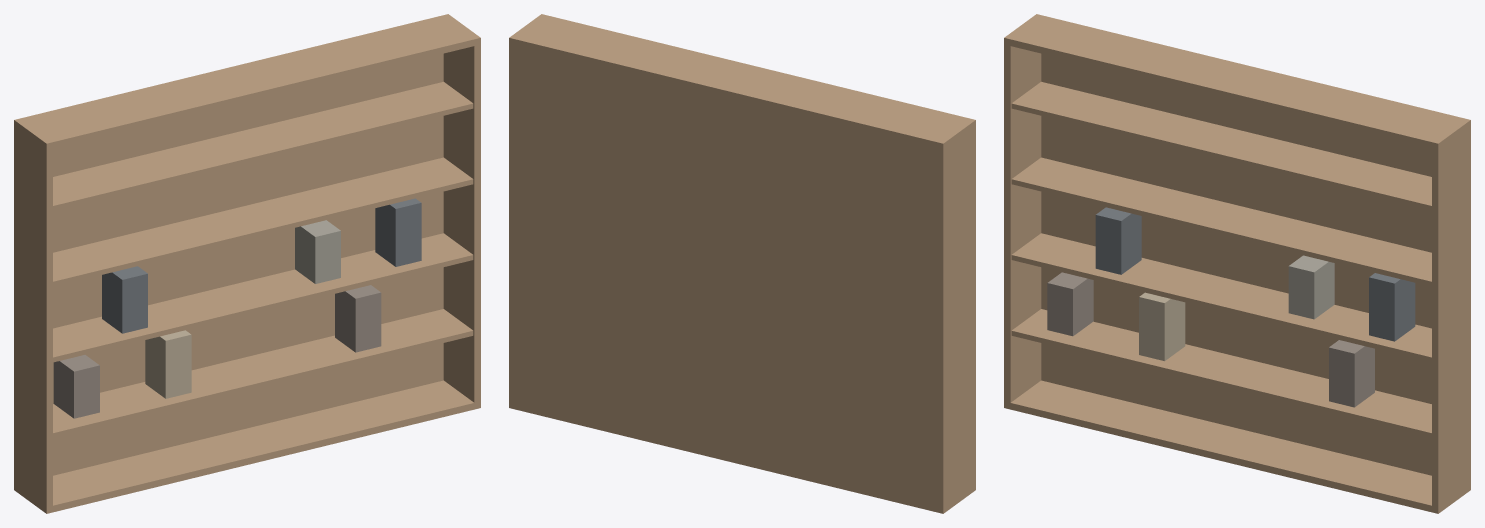
3 renders of one model, left to right at view 1: azimuth 30°, elevation 25°; view 2: azimuth 150°, elevation 25°; view 3: azimuth 330°, elevation 25°, orthographic.
Visible parts, largest first — view 1: bookshelf; view 2: bookshelf; view 3: bookshelf.
Boxes of the visible parts, bbox=[...] form: bookshelf: bbox=[14, 14, 480, 513]; bookshelf: bbox=[509, 14, 975, 513]; bookshelf: bbox=[1004, 14, 1470, 513].
Bounding box in the file's own units: 2.7 × 2.2 × 0.35.
